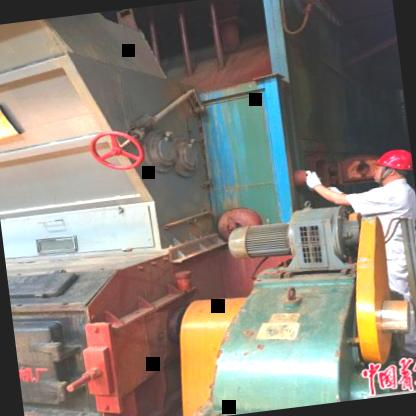helmet: (365, 146, 414, 186)
